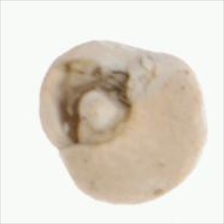L3: (65, 68, 134, 147)
L4: (39, 40, 207, 205)
